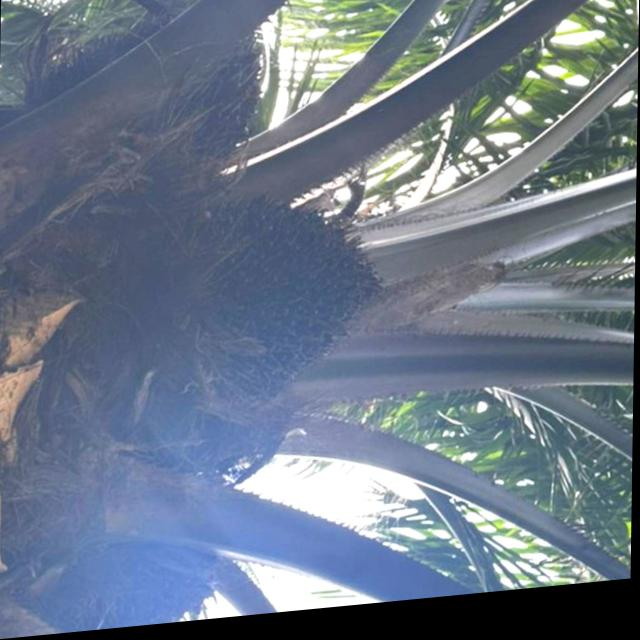unripe: (189, 183, 390, 420)
